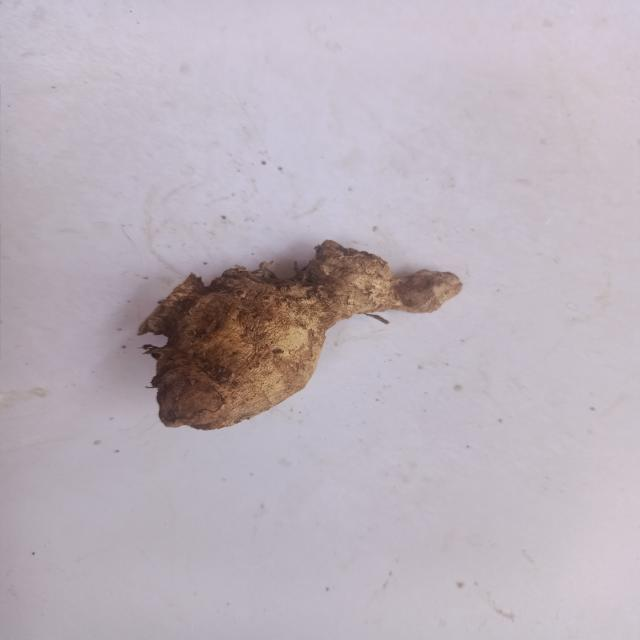Ginger: (124, 232, 468, 436)
